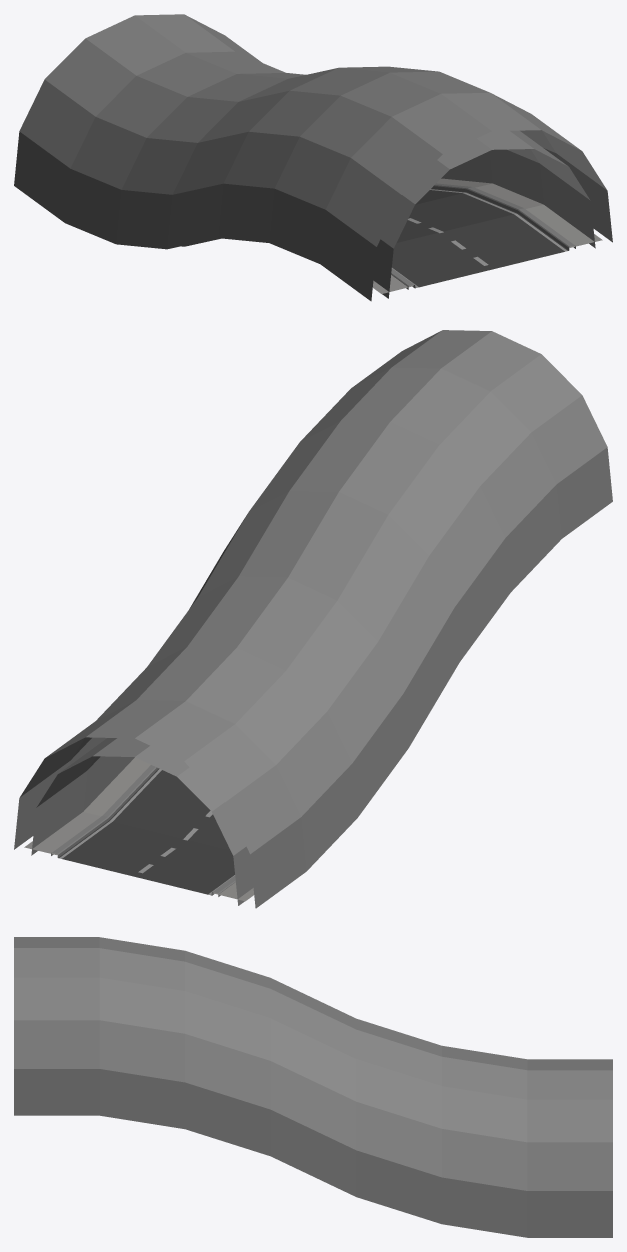
The model's file is SM_Envr_Nature_Mountain_Tunnel_Road_02.fbx.
3 renders of one model, top to bottom at view 1: azimuth 30°, elevation 25°; view 2: azimuth 150°, elevation 25°; view 3: azimuth 270°, elevation 25°, orthographic. The views are drawn at different scales.
Visible parts, largest first — view 1: SM_Envr_Nature_Mountain_Tunnel_Road_02; view 2: SM_Envr_Nature_Mountain_Tunnel_Road_02; view 3: SM_Envr_Nature_Mountain_Tunnel_Road_02.
Part boxes in pixels (bbox=[...]): SM_Envr_Nature_Mountain_Tunnel_Road_02: bbox=[14, 14, 612, 301]; SM_Envr_Nature_Mountain_Tunnel_Road_02: bbox=[14, 330, 612, 908]; SM_Envr_Nature_Mountain_Tunnel_Road_02: bbox=[14, 937, 612, 1237].
Bounding box in the file's own units: 1561 × 1781 × 4000.
